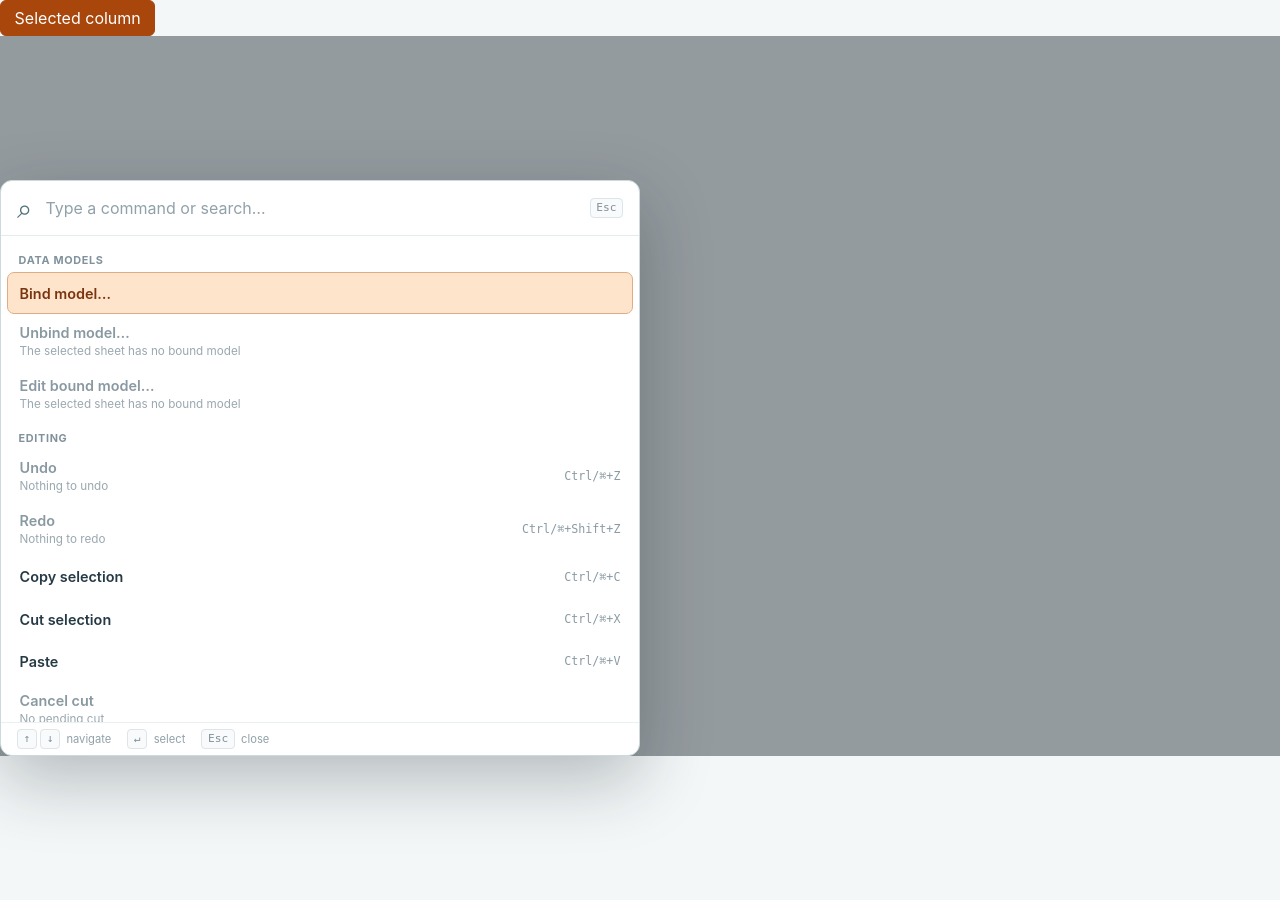
Test case: workspace palette actions › retains the focused draft and shows an immediate pending-operation rejection
Type "Rename column" into the dropdown named "Command search" at {"x": 311, "y": 208}, box [43,197,578,219]
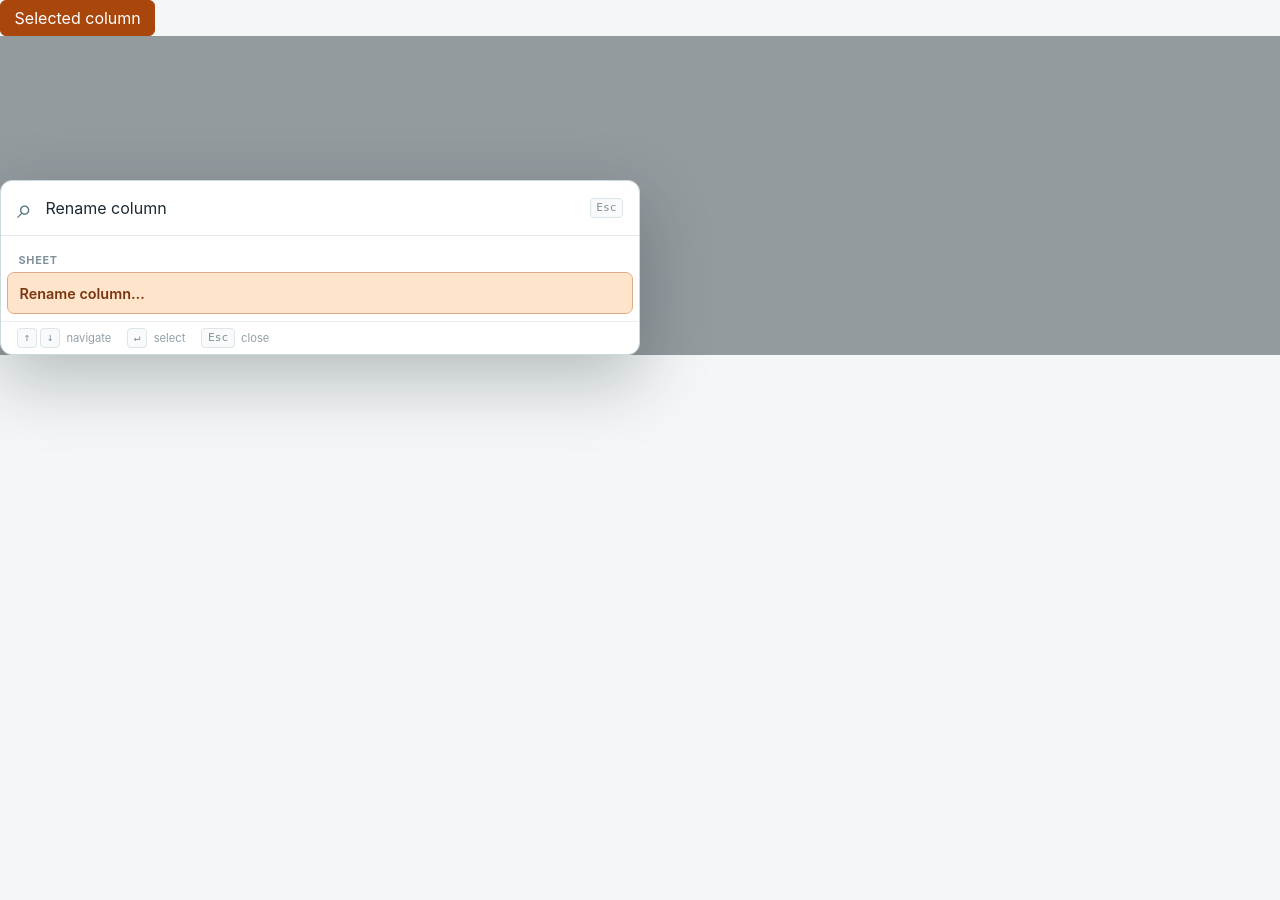
Press Enter in the dropdown named "Command search", box [43,197,578,219]
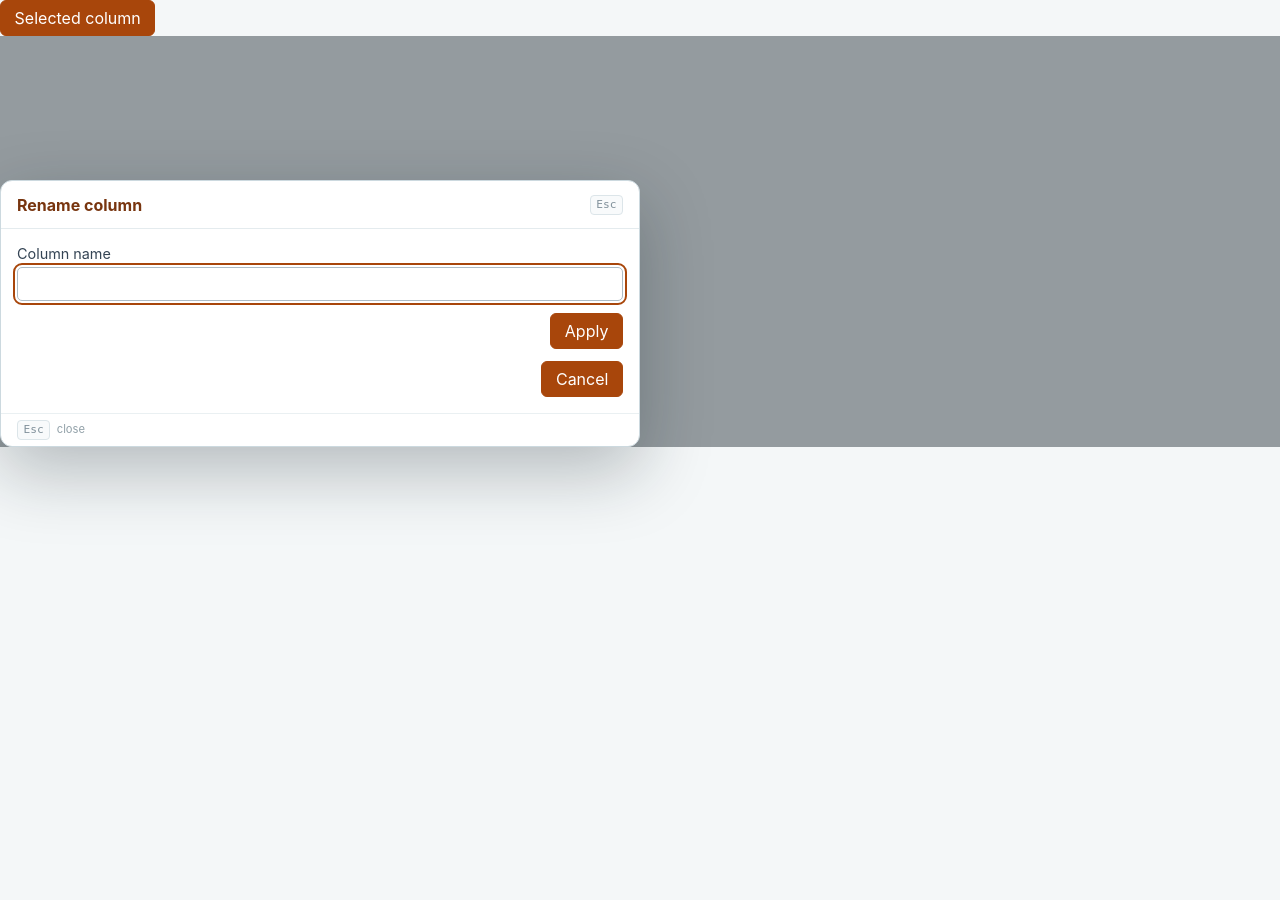
Type "Draft" into the field labelled "Column name" at {"x": 320, "y": 284}, box [17,267,623,301]
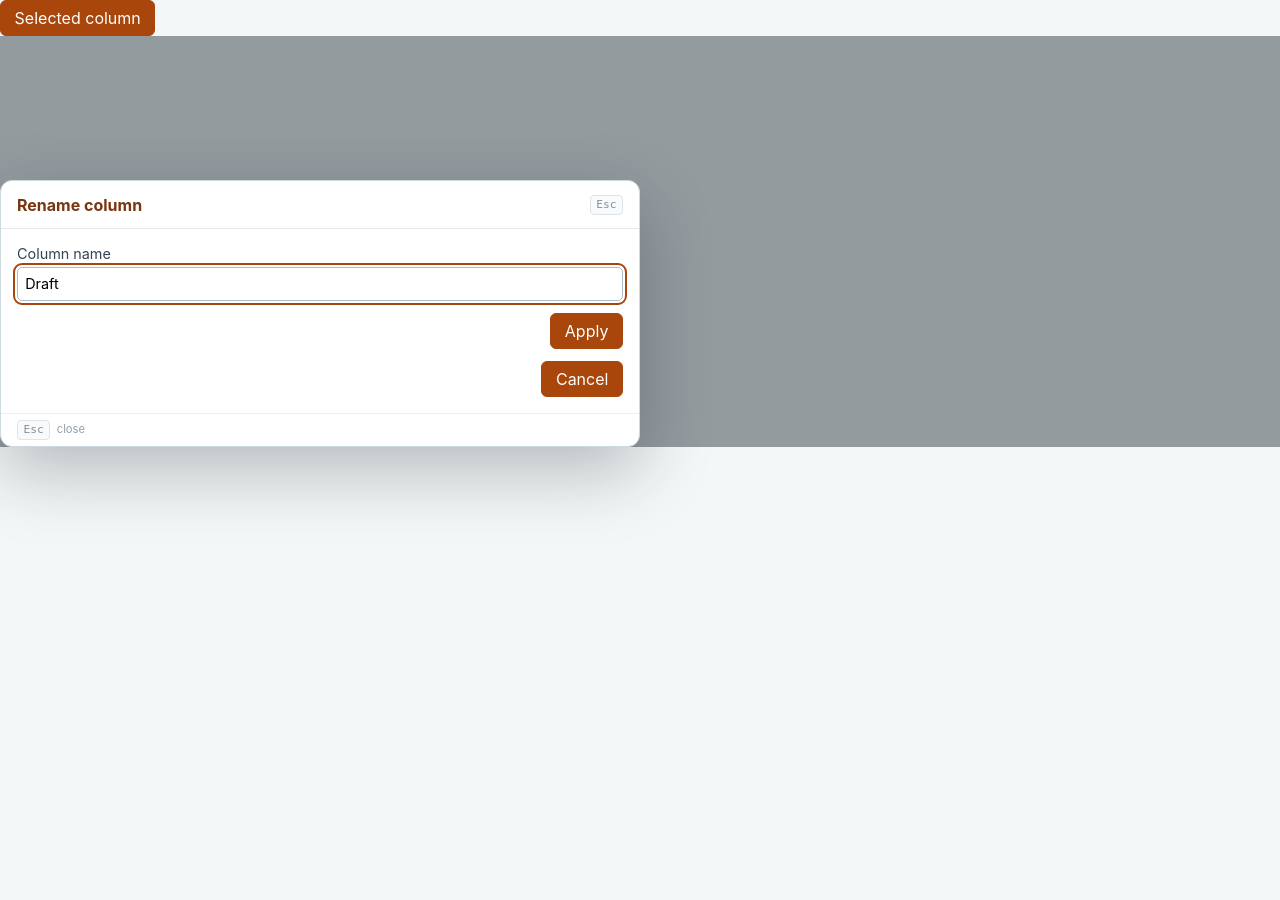
Click the button "Apply" at {"x": 587, "y": 331}, box [550,313,623,349]
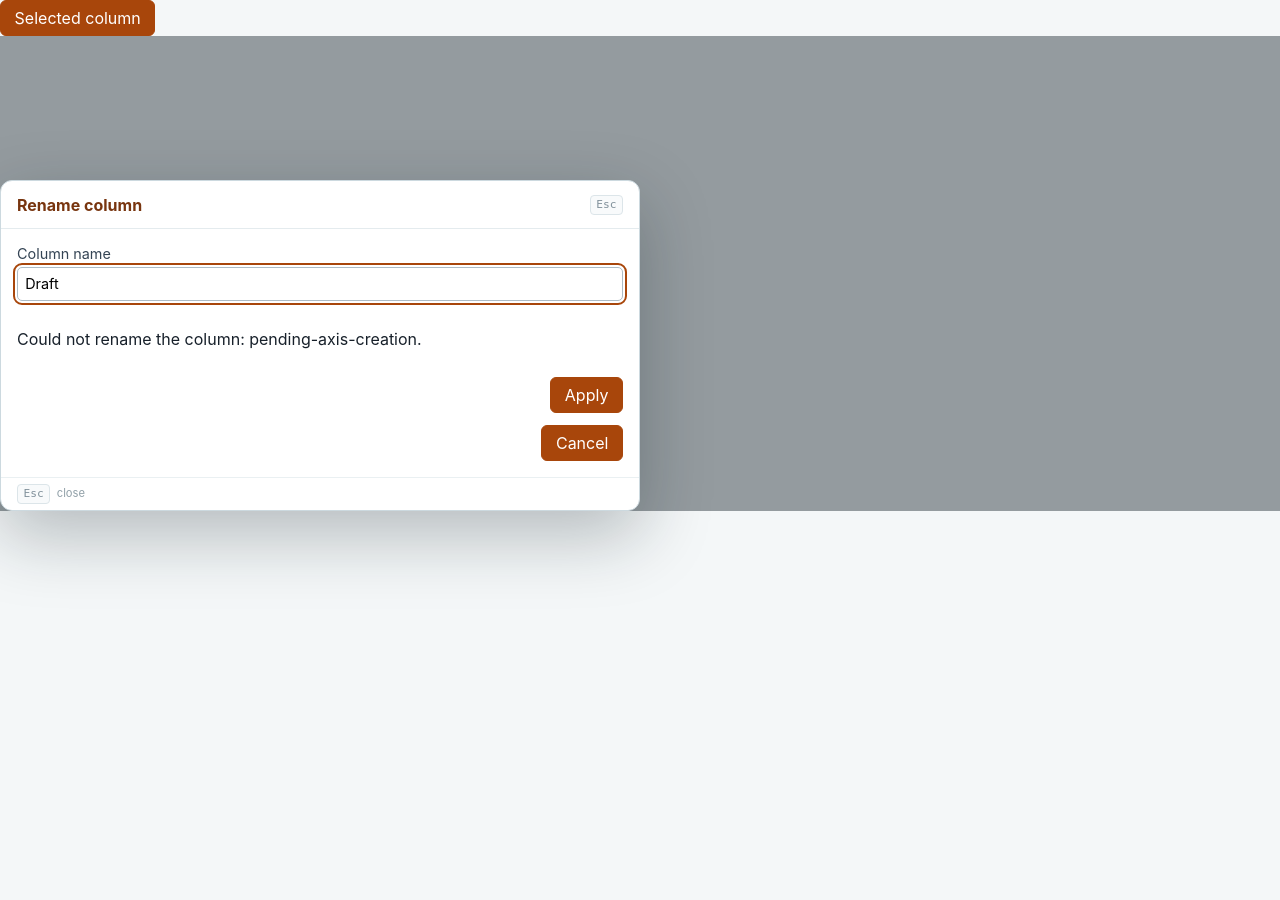
Expected: the dialog is shown, [0,180,640,511]
Expected: the message shows "pending-axis-creation", [17,329,422,349]
